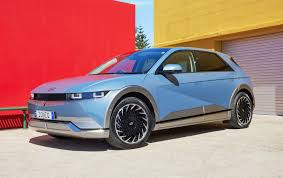Honda Ioniq: (21, 40, 260, 162)
